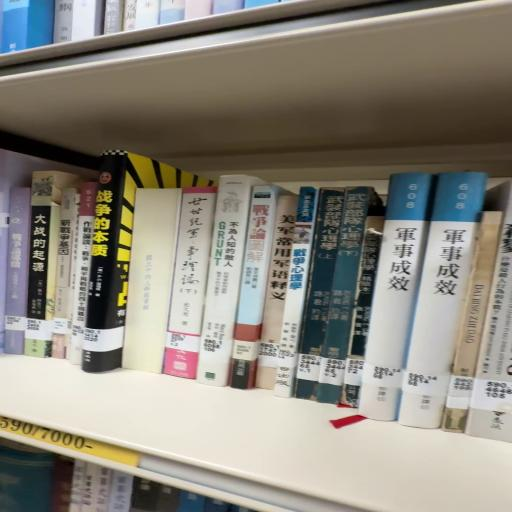backward: (124, 186, 181, 374)
book: (401, 179, 490, 436), (352, 180, 435, 431), (301, 185, 380, 405), (200, 183, 271, 393), (167, 184, 221, 381), (6, 187, 32, 331)
